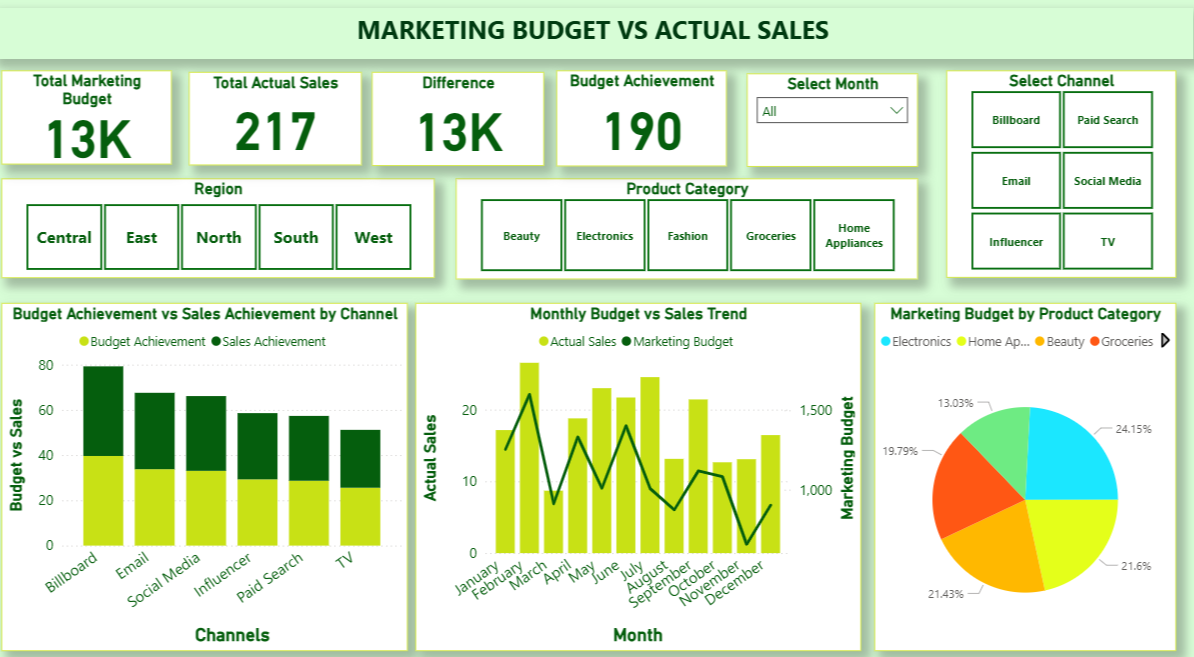

The page's visual inventory and layout, read from the dashboard file:
{"tool":"powerbi","page":{"name":"Page 1","canvas":[1280,720],"ordinal":0},"visuals":[{"type":"textbox","box":[0,17,1279.4,54.8],"z":0},{"type":"slicer","title":"Region","fields":{"Values":["Marketing_Budget_vs_Actual_Sales.Region"]},"box":[9.4,200.3,461.1,105.8],"z":1000},{"type":"slicer","title":"Select Month","fields":{"Values":["Marketing_Budget_vs_Actual_Sales.Month.Variation.Date Hierarchy.Month"]},"box":[803.6,87.9,182.1,99.1],"z":2000},{"type":"slicer","title":"Product Category","fields":{"Values":["Marketing_Budget_vs_Actual_Sales.Product Category"]},"box":[493.7,199.7,492.1,107],"z":3000},{"type":"slicer","title":"Select Channel","fields":{"Values":["Marketing_Budget_vs_Actual_Sales.Channel"]},"box":[1003.3,86.3,244.4,220.5],"z":4000},{"type":"card","title":"Total Marketing Budget","fields":{"Values":["Sum(Marketing_Budget_vs_Actual_Sales.Marketing Budget (USD '000))"]},"box":[9.4,85,181.4,100.2],"z":5000},{"type":"card","title":"Total Actual Sales","fields":{"Values":["Sum(Marketing_Budget_vs_Actual_Sales.Actual Sales (USD Millions))"]},"box":[209.3,86.3,183.7,99.1],"z":6000},{"type":"card","title":"Difference","fields":{"Values":["Sum(Marketing_Budget_vs_Actual_Sales.difference)"]},"box":[404.4,86.9,183.3,100.2],"z":7000},{"type":"card","title":"Budget Achievement","fields":{"Values":["Sum(Marketing_Budget_vs_Actual_Sales.Budget Achievement (%))"]},"box":[600.9,85,181.4,102],"z":8000},{"type":"columnChart","title":"Budget Achievement vs Sales Achievement by Channel","fields":{"Category":["Marketing_Budget_vs_Actual_Sales.Channel"],"Y":["Sum(Marketing_Budget_vs_Actual_Sales.Budget Achievement (%))","Sum(Marketing_Budget_vs_Actual_Sales.Sales Achievement)"]},"box":[9.4,332.6,432.8,370.4],"z":9000},{"type":"lineClusteredColumnComboChart","title":"Monthly Budget vs Sales Trend","fields":{"Category":["Marketing_Budget_vs_Actual_Sales.Month.Variation.Date Hierarchy.Month"],"Y":["Sum(Marketing_Budget_vs_Actual_Sales.Actual Sales (USD Millions))"],"Y2":["Sum(Marketing_Budget_vs_Actual_Sales.Marketing Budget (USD '000))"]},"box":[455.3,332.3,472.9,370.7],"z":10000},{"type":"pieChart","fields":{"Category":["Marketing_Budget_vs_Actual_Sales.Product Category"],"Y":["Sum(Marketing_Budget_vs_Actual_Sales.Marketing Budget (USD '000))"]},"box":[944.2,332.3,321.1,370.7],"z":11000}]}

Visuals, with their boxes in screenshot pixels (x1, y1, x2, y2), scaled from the page's 1280x720 canvas onto the 1194x657 screenshot:
textbox: l=0, t=16, r=1193, b=66
"Region" slicer: l=9, t=183, r=439, b=279
"Select Month" slicer: l=750, t=80, r=919, b=171
"Product Category" slicer: l=461, t=182, r=920, b=280
"Select Channel" slicer: l=936, t=79, r=1164, b=280
"Total Marketing Budget" card: l=9, t=78, r=178, b=169
"Total Actual Sales" card: l=195, t=79, r=367, b=169
"Difference" card: l=377, t=79, r=548, b=171
"Budget Achievement" card: l=561, t=78, r=730, b=171
"Budget Achievement vs Sales Achievement by Channel" columnChart: l=9, t=303, r=412, b=641
"Monthly Budget vs Sales Trend" lineClusteredColumnComboChart: l=425, t=303, r=866, b=641
pieChart - Marketing_Budget_vs_Actual_Sales.Product Category x Sum(Marketing_Budget_vs_Actual_Sales.Marketing Budget (USD '000)): l=881, t=303, r=1180, b=641
